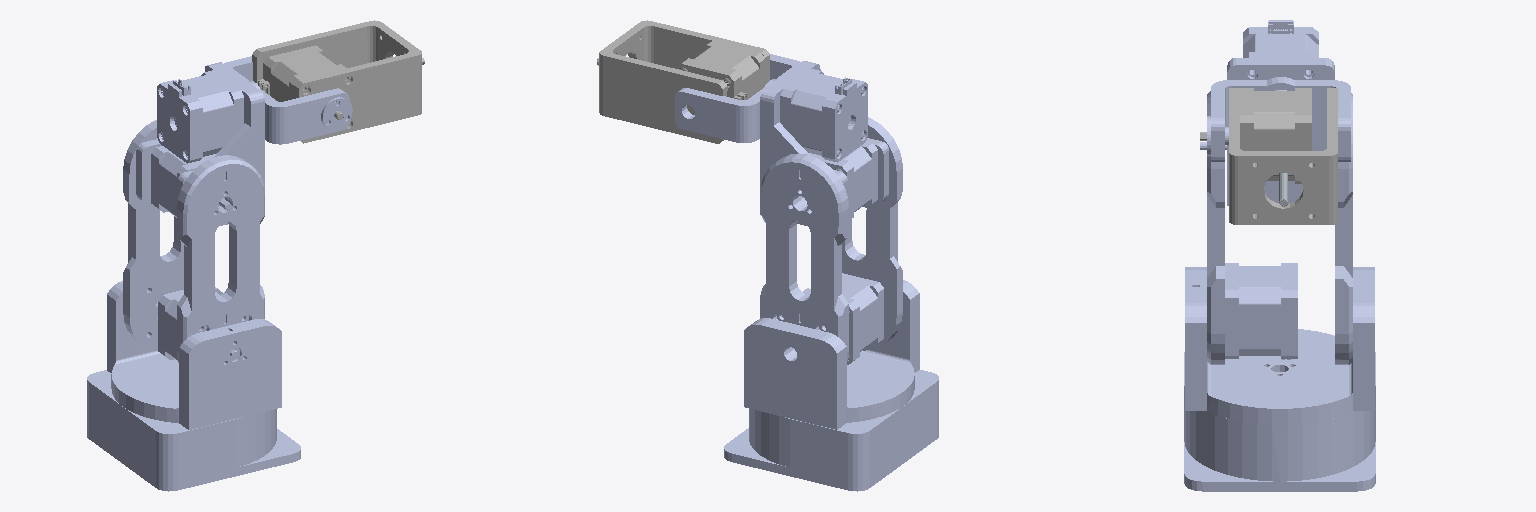
robot.urdf — AssemblyDraft1:
<?xml version="1.0" encoding="utf-8"?>
<!-- This URDF was automatically created by SolidWorks to URDF Exporter! Originally created by Stephen Brawner (brawner@gmail.com) 
     Commit Version: 1.6.0-4-g7f85cfe  Build Version: 1.6.7995.38578
     For more information, please see http://wiki.ros.org/sw_urdf_exporter -->
<robot
  name="AssemblyDraft1">
  <link
    name="base_Frame">
    <inertial>
      <origin
        xyz="-0.00392828513304835 -5.34594386421673E-18 0.0197084096565698"
        rpy="0 0 0" />
      <mass
        value="0.398803913878024" />
      <inertia
        ixx="0.000383634062492965"
        ixy="-5.59526705517806E-20"
        ixz="5.15665640521899E-06"
        iyy="0.000377479950170546"
        iyz="-3.26597973458209E-20"
        izz="0.000652663421267234" />
    </inertial>
    <visual>
      <origin
        xyz="0 0 0"
        rpy="0 0 0" />
      <geometry>
        <mesh
          filename="package://AssemblyDraft1/meshes/base_Frame.STL" />
      </geometry>
      <material
        name="">
        <color
          rgba="0.792156862745098 0.819607843137255 0.933333333333333 1" />
      </material>
    </visual>
    <collision>
      <origin
        xyz="0 0 0"
        rpy="0 0 0" />
      <geometry>
        <mesh
          filename="package://AssemblyDraft1/meshes/base_Frame.STL" />
      </geometry>
    </collision>
  </link>
  <link
    name="BaseLink">
    <inertial>
      <origin
        xyz="-0.00392828513304835 -5.27957094589629E-18 0.0197084096565698"
        rpy="0 0 0" />
      <mass
        value="0.398803913878024" />
      <inertia
        ixx="0.000383634062492965"
        ixy="-5.55390802455041E-20"
        ixz="5.15665640521899E-06"
        iyy="0.000377479950170546"
        iyz="-3.26597973458209E-20"
        izz="0.000652663421267234" />
    </inertial>
    <visual>
      <origin
        xyz="0 0 0"
        rpy="0 0 0" />
      <geometry>
        <mesh
          filename="package://AssemblyDraft1/meshes/BaseLink.STL" />
      </geometry>
      <material
        name="">
        <color
          rgba="0.792156862745098 0.819607843137255 0.933333333333333 1" />
      </material>
    </visual>
    <collision>
      <origin
        xyz="0 0 0"
        rpy="0 0 0" />
      <geometry>
        <mesh
          filename="package://AssemblyDraft1/meshes/BaseLink.STL" />
      </geometry>
    </collision>
  </link>
  <joint
    name="BaseLinkJoint"
    type="fixed">
    <origin
      xyz="0 0 0"
      rpy="0 0 0" />
    <parent
      link="base_Frame" />
    <child
      link="BaseLink" />
    <axis
      xyz="0 0 0" />
  </joint>
  <link
    name="J1_Link">
    <inertial>
      <origin
        xyz="5.15005024992425E-17 -0.00220626005450383 0.0200689923926743"
        rpy="0 0 0" />
      <mass
        value="0.178308396338367" />
      <inertia
        ixx="0.000290696734206688"
        ixy="-5.58317885263565E-11"
        ixz="4.55676352198815E-20"
        iyy="0.000146889533548349"
        iyz="-3.34224178976827E-07"
        izz="0.000331186535139949" />
    </inertial>
    <visual>
      <origin
        xyz="0 0 0"
        rpy="0 0 0" />
      <geometry>
        <mesh
          filename="package://AssemblyDraft1/meshes/J1_Link.STL" />
      </geometry>
      <material
        name="">
        <color
          rgba="0.792156862745098 0.819607843137255 0.933333333333333 1" />
      </material>
    </visual>
    <collision>
      <origin
        xyz="0 0 0"
        rpy="0 0 0" />
      <geometry>
        <mesh
          filename="package://AssemblyDraft1/meshes/J1_Link.STL" />
      </geometry>
    </collision>
  </link>
  <joint
    name="J1"
    type="revolute">
    <origin
      xyz="0 0 0.04"
      rpy="0 0 0" />
    <parent
      link="BaseLink" />
    <child
      link="J1_Link" />
    <axis
      xyz="0 0 -1" />
    <limit
      lower="-6.2856"
      upper="6.2856"
      effort="5"
      velocity="5" />
  </joint>
  <link
    name="J2_Link">
    <inertial>
      <origin
        xyz="0.0341625857117514 4.81563057101795E-08 -0.00348814488795987"
        rpy="0 0 0" />
      <mass
        value="0.20493853476852" />
      <inertia
        ixx="5.25009121788374E-05"
        ixy="-2.51992987674025E-11"
        ixz="1.05086162925748E-08"
        iyy="0.000293309909415094"
        iyz="3.0817287744598E-10"
        izz="0.000339163519667511" />
    </inertial>
    <visual>
      <origin
        xyz="0 0 0"
        rpy="0 0 0" />
      <geometry>
        <mesh
          filename="package://AssemblyDraft1/meshes/J2_Link.STL" />
      </geometry>
      <material
        name="">
        <color
          rgba="0.792156862745098 0.819607843137255 0.933333333333333 1" />
      </material>
    </visual>
    <collision>
      <origin
        xyz="0 0 0"
        rpy="0 0 0" />
      <geometry>
        <mesh
          filename="package://AssemblyDraft1/meshes/J2_Link.STL" />
      </geometry>
    </collision>
  </link>
  <joint
    name="J2"
    type="revolute">
    <origin
      xyz="0 0 0.045024"
      rpy="1.5708 -1.57 -3.1416" />
    <parent
      link="J1_Link" />
    <child
      link="J2_Link" />
    <axis
      xyz="0 0 1" />
    <limit
      lower="-6.2856"
      upper="6.2856"
      effort="5"
      velocity="5" />
  </joint>
  <link
    name="J3_Link">
    <inertial>
      <origin
        xyz="0.00859837437049419 -0.0192799171048054 -0.0351458907841485"
        rpy="0 0 0" />
      <mass
        value="0.211104401938319" />
      <inertia
        ixx="0.00010201352545001"
        ixy="9.23339515566093E-06"
        ixz="1.28811604797203E-06"
        iyy="7.66727826172986E-05"
        iyz="-9.60803527585616E-07"
        izz="8.84124778948434E-05" />
    </inertial>
    <visual>
      <origin
        xyz="0 0 0"
        rpy="0 0 0" />
      <geometry>
        <mesh
          filename="package://AssemblyDraft1/meshes/J3_Link.STL" />
      </geometry>
      <material
        name="">
        <color
          rgba="0.792156862745098 0.819607843137255 0.933333333333333 1" />
      </material>
    </visual>
    <collision>
      <origin
        xyz="0 0 0"
        rpy="0 0 0" />
      <geometry>
        <mesh
          filename="package://AssemblyDraft1/meshes/J3_Link.STL" />
      </geometry>
    </collision>
  </link>
  <joint
    name="J3"
    type="revolute">
    <origin
      xyz="0.099976 0 0.035"
      rpy="0 0 1.5716" />
    <parent
      link="J2_Link" />
    <child
      link="J3_Link" />
    <axis
      xyz="0 0 1" />
    <limit
      lower="-6.2856"
      upper="6.2856"
      effort="5"
      velocity="5" />
  </joint>
  <link
    name="J4_Link">
    <inertial>
      <origin
        xyz="8.35079161376484E-07 -0.00676193137349457 0.0181683173855942"
        rpy="0 0 0" />
      <mass
        value="0.0521282135415929" />
      <inertia
        ixx="3.7593062578374E-05"
        ixy="1.5052840427318E-09"
        ixz="-1.19434860111227E-09"
        iyy="1.15235892953846E-05"
        iyz="-7.1369199839344E-08"
        izz="3.0795899659119E-05" />
    </inertial>
    <visual>
      <origin
        xyz="0 0 0"
        rpy="0 0 0" />
      <geometry>
        <mesh
          filename="package://AssemblyDraft1/meshes/J4_Link.STL" />
      </geometry>
      <material
        name="">
        <color
          rgba="0.792156862745098 0.819607843137255 0.933333333333333 1" />
      </material>
    </visual>
    <collision>
      <origin
        xyz="0 0 0"
        rpy="0 0 0" />
      <geometry>
        <mesh
          filename="package://AssemblyDraft1/meshes/J4_Link.STL" />
      </geometry>
    </collision>
  </link>
  <joint
    name="J4"
    type="revolute">
    <origin
      xyz="0.039966 -0.044031 -0.0345"
      rpy="1.5708 0 1.57" />
    <parent
      link="J3_Link" />
    <child
      link="J4_Link" />
    <axis
      xyz="0 0 -1" />
    <limit
      lower="-6.2856"
      upper="6.2856"
      effort="5"
      velocity="5" />
  </joint>
  <link
    name="J5_Link">
    <inertial>
      <origin
        xyz="3.94129173741931E-15 -0.0258816481211884 -0.0341794222651042"
        rpy="0 0 0" />
      <mass
        value="0.189700976705942" />
      <inertia
        ixx="0.000100351816110413"
        ixy="-2.82973578130276E-10"
        ixz="2.82973578769086E-10"
        iyy="7.16468415501826E-05"
        iyz="-2.54245342930596E-06"
        izz="8.16276490016628E-05" />
    </inertial>
    <visual>
      <origin
        xyz="0 0 0"
        rpy="0 0 0" />
      <geometry>
        <mesh
          filename="package://AssemblyDraft1/meshes/J5_Link.STL" />
      </geometry>
      <material
        name="">
        <color
          rgba="0.752941176470588 0.752941176470588 0.752941176470588 1" />
      </material>
    </visual>
    <collision>
      <origin
        xyz="0 0 0"
        rpy="0 0 0" />
      <geometry>
        <mesh
          filename="package://AssemblyDraft1/meshes/J5_Link.STL" />
      </geometry>
    </collision>
  </link>
  <joint
    name="J5"
    type="revolute">
    <origin
      xyz="0 0.0345 0.042"
      rpy="-1.5708 0 0" />
    <parent
      link="J4_Link" />
    <child
      link="J5_Link" />
    <axis
      xyz="0 0 1" />
    <limit
      lower="-6.2856"
      upper="6.2856"
      effort="5"
      velocity="5" />
  </joint>
  <link
    name="J6_Link">
    <inertial>
      <origin
        xyz="2.10273537232242E-06 -4.65350489550461E-06 -0.0298923940103484"
        rpy="0 0 0" />
      <mass
        value="0.00114582999188719" />
      <inertia
        ixx="3.32285500557153E-07"
        ixy="-2.54807966119436E-11"
        ixz="3.07683493859108E-10"
        iyy="3.32330377628855E-07"
        iyz="-6.80925742643999E-10"
        izz="3.54273266881593E-09" />
    </inertial>
    <visual>
      <origin
        xyz="0 0 0"
        rpy="0 0 0" />
      <geometry>
        <mesh
          filename="package://AssemblyDraft1/meshes/J6_Link.STL" />
      </geometry>
      <material
        name="">
        <color
          rgba="0.737254901960784 0.776470588235294 0.8 1" />
      </material>
    </visual>
    <collision>
      <origin
        xyz="0 0 0"
        rpy="0 0 0" />
      <geometry>
        <mesh
          filename="package://AssemblyDraft1/meshes/J6_Link.STL" />
      </geometry>
    </collision>
  </link>
  <joint
    name="J6"
    type="revolute">
    <origin
      xyz="-1.4128E-05 -0.087 -0.032969"
      rpy="1.5708 0 0" />
    <parent
      link="J5_Link" />
    <child
      link="J6_Link" />
    <axis
      xyz="0 0 -1" />
    <limit
      lower="-6.2856"
      upper="6.2856"
      effort="5"
      velocity="5" />
  </joint>
</robot>

--- Facts derived from the render (not from the file) ---
Views: 3 orthographic renders of the robot side by side, from view 1: azimuth 30°, elevation 25°; view 2: azimuth 150°, elevation 25°; view 3: azimuth 270°, elevation 25°.
Robot: AssemblyDraft1 — 8 links, 7 joints (6 revolute, 1 fixed); root link base_Frame; default pose: all joints at 0.
Links seen in each view (by area): view 1: J2_Link, J1_Link, base_Frame, J5_Link, J3_Link, J4_Link; view 2: J2_Link, J1_Link, J5_Link, base_Frame, J3_Link, J4_Link; view 3: J1_Link, J2_Link, base_Frame, J5_Link, J3_Link, J4_Link.
Boxes of the visible links, <box> form: J2_Link: <box>123,120,264,362</box>; J1_Link: <box>107,281,281,429</box>; base_Frame: <box>87,370,300,491</box>; J5_Link: <box>252,20,421,143</box>; J3_Link: <box>136,62,264,225</box>; J4_Link: <box>224,56,352,144</box>; J2_Link: <box>760,117,902,364</box>; J1_Link: <box>744,280,919,429</box>; J5_Link: <box>599,20,769,143</box>; base_Frame: <box>724,370,938,491</box>; J3_Link: <box>760,61,888,225</box>; J4_Link: <box>675,54,800,142</box>; J1_Link: <box>1185,267,1374,424</box>; J2_Link: <box>1207,91,1352,364</box>; base_Frame: <box>1184,352,1375,491</box>; J5_Link: <box>1200,88,1337,224</box>; J3_Link: <box>1200,20,1334,205</box>; J4_Link: <box>1207,77,1350,161</box>.
Bounding box of the posed robot: 0.2214 × 0.105 × 0.2555 m (x, y, z).
7 mesh visuals loaded from 8 distinct referenced files (7 binary STL); not drawn: 1 (reference not matched to a file when rendering).
